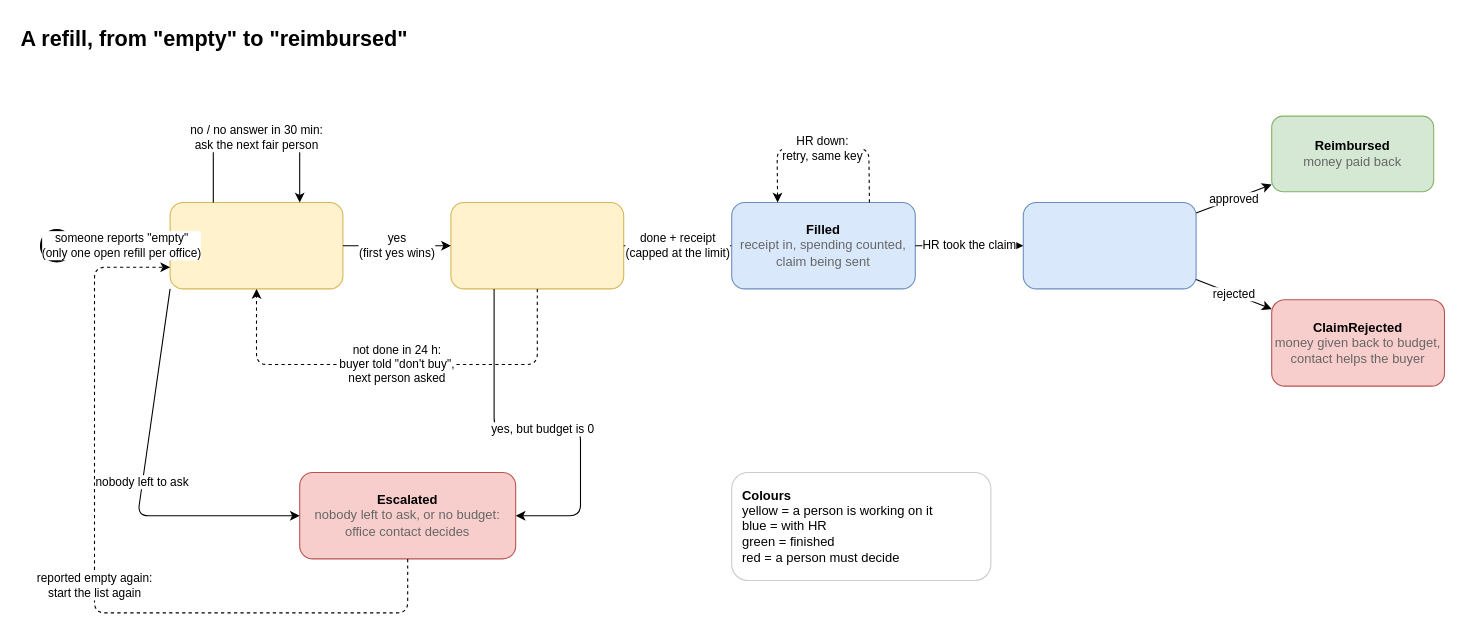
The diagram is 1463 pixels wide and 640 high, and some of its shapes have lost their labels. The centre of each missing label's shape, as x and y in pixels:
Claimed waiting for HR (1-10 days): (1109,245)
Committed said yes, told the limit, 24 h to buy: (537,245)
Offered one volunteer asked, 30 min to answer: (256,245)
